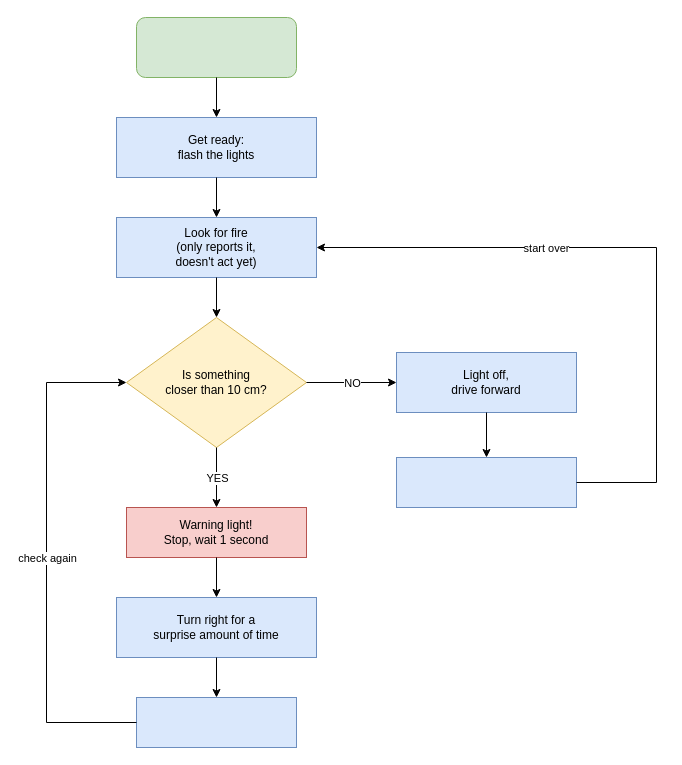
This 682x765 diagram has some shape labels left out. The centre of each missing label's shape, as x and y in pixels:
"Keep driving for a tenth of a second" goes at (x=486, y=482).
"START (robot turns on)" goes at (x=216, y=47).
"Stop, wait half a second" goes at (x=216, y=722).
